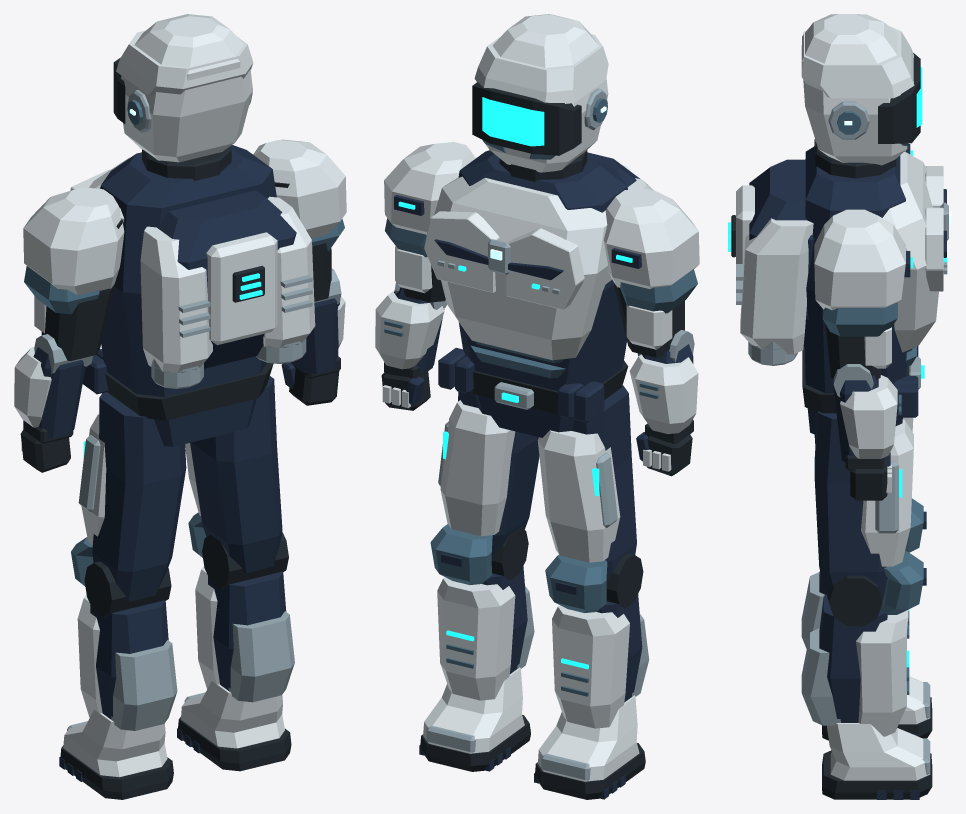
The model's file is helion_trooper.glb.
The picture shows the model from 3 angles, left to right: view 1: azimuth 30°, elevation 25°; view 2: azimuth 150°, elevation 25°; view 3: azimuth 270°, elevation 25°; orthographic projection. The views are drawn at different scales.
Parts seen in each view (by area): view 1: Dorsal EVA pack | Geometry, Torso | Geometry, Helmet | Geometry, Left thigh | Geometry, Left shin | Geometry, Left upper arm | Geometry, Right shin | Geometry, Right thigh | Geometry, Left boot | Geometry, Right boot | Geometry, Right upper arm | Geometry, Left forearm | Geometry (+3 smaller); view 2: Torso | Geometry, Helmet | Geometry, Left shin | Geometry, Right shin | Geometry, Left thigh | Geometry, Left upper arm | Geometry, Right thigh | Geometry, Right upper arm | Geometry, Left boot | Geometry, Right boot | Geometry, Left forearm | Geometry, Right forearm | Geometry (+3 smaller); view 3: Torso | Geometry, Helmet | Geometry, Right shin | Geometry, Dorsal EVA pack | Geometry, Right upper arm | Geometry, Right thigh | Geometry, Right boot | Geometry, Right forearm | Geometry, Left shin | Geometry, Left boot | Geometry, Right gauntlet | Geometry.
Part boxes in pixels (box(x1,y1,x2,y2)): Dorsal EVA pack | Geometry: box(140, 190, 315, 388); Torso | Geometry: box(70, 145, 276, 446); Helmet | Geometry: box(113, 14, 253, 180); Left thigh | Geometry: box(78, 392, 186, 601); Left shin | Geometry: box(71, 537, 177, 730); Left upper arm | Geometry: box(23, 187, 124, 360); Right shin | Geometry: box(188, 512, 294, 702); Right thigh | Geometry: box(185, 376, 282, 573); Left boot | Geometry: box(59, 709, 173, 799); Right boot | Geometry: box(177, 681, 291, 771); Right upper arm | Geometry: box(253, 139, 346, 301); Left forearm | Geometry: box(14, 334, 92, 443); Torso | Geometry: box(424, 150, 628, 437); Helmet | Geometry: box(472, 14, 608, 181); Left shin | Geometry: box(545, 553, 649, 728); Right shin | Geometry: box(430, 524, 534, 700); Left thigh | Geometry: box(537, 385, 636, 580); Left upper arm | Geometry: box(603, 188, 699, 357); Right thigh | Geometry: box(438, 391, 539, 556); Right upper arm | Geometry: box(384, 142, 475, 302); Left boot | Geometry: box(534, 695, 645, 799); Right boot | Geometry: box(419, 667, 530, 771); Left forearm | Geometry: box(629, 330, 698, 443); Right forearm | Geometry: box(375, 282, 446, 378); Torso | Geometry: box(802, 146, 951, 434); Helmet | Geometry: box(801, 14, 922, 178); Right shin | Geometry: box(801, 551, 926, 736); Dorsal EVA pack | Geometry: box(728, 159, 813, 365); Right upper arm | Geometry: box(814, 209, 913, 379); Right thigh | Geometry: box(814, 411, 913, 599); Right boot | Geometry: box(822, 723, 932, 799); Right forearm | Geometry: box(833, 364, 901, 470); Left shin | Geometry: box(801, 498, 926, 649); Left boot | Geometry: box(822, 676, 932, 740); Right gauntlet | Geometry: box(850, 452, 891, 500).
Size of the model in its own units: 0.8 by 1.8 by 0.5.
